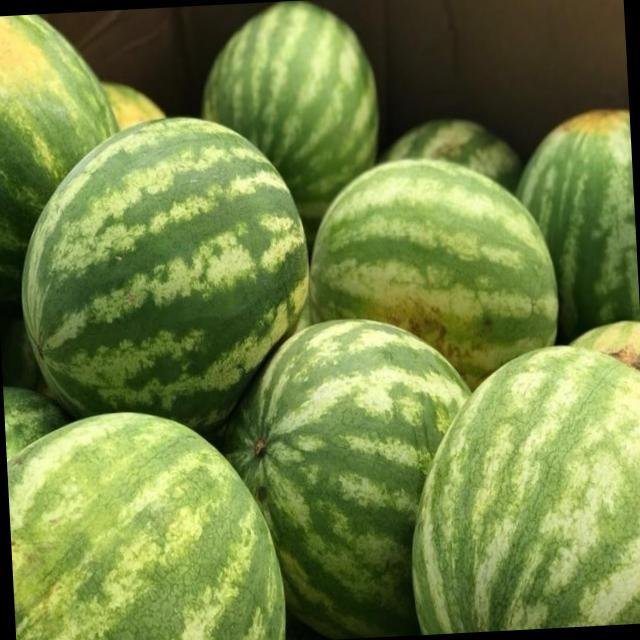WATERMELON: (11, 80, 326, 416), (241, 300, 478, 617), (4, 391, 295, 640), (405, 335, 640, 635), (308, 147, 569, 373), (207, 0, 394, 186), (0, 10, 129, 274), (517, 101, 640, 320), (376, 100, 542, 190), (0, 311, 60, 487), (88, 24, 190, 127), (573, 296, 640, 365)
